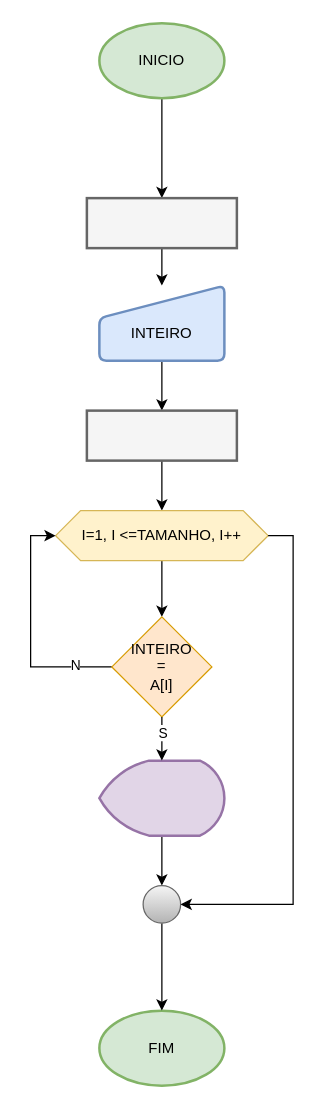
This 325x1108 diagram has some shape labels left out. Each missing label, with the centre of its shape:
"A[1, 4, 5, 6, 7]" belongs at [161,222].
"A[I] I" belongs at [161,797].
"CALCULA TAMANHO" belongs at [161,435].
